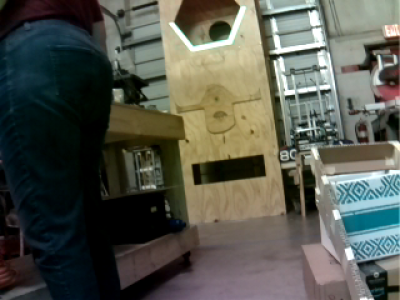target: (169, 5, 246, 52)
